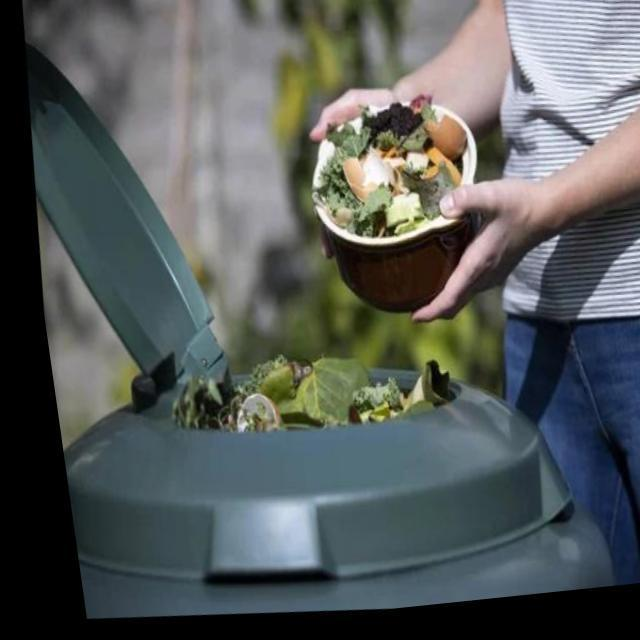Garbage: (155, 371, 448, 449), (309, 109, 464, 250)
